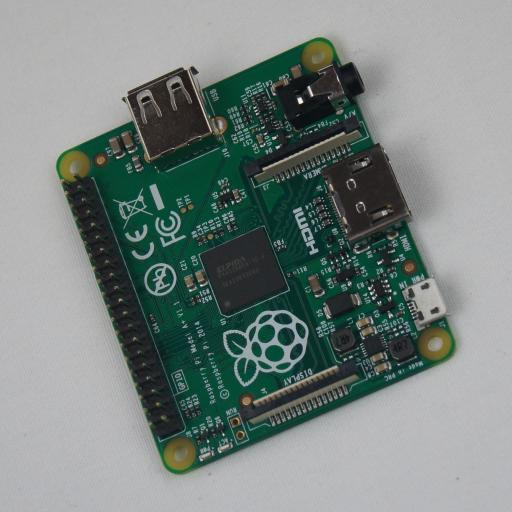Raspberry Pi A-: (56, 38, 456, 474)
